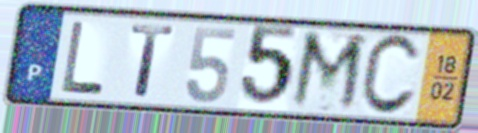5: (237, 24, 300, 113), (183, 24, 239, 105)
C: (357, 32, 424, 120)
L: (59, 19, 107, 97)
M: (287, 28, 371, 116)
T: (128, 23, 178, 100)
